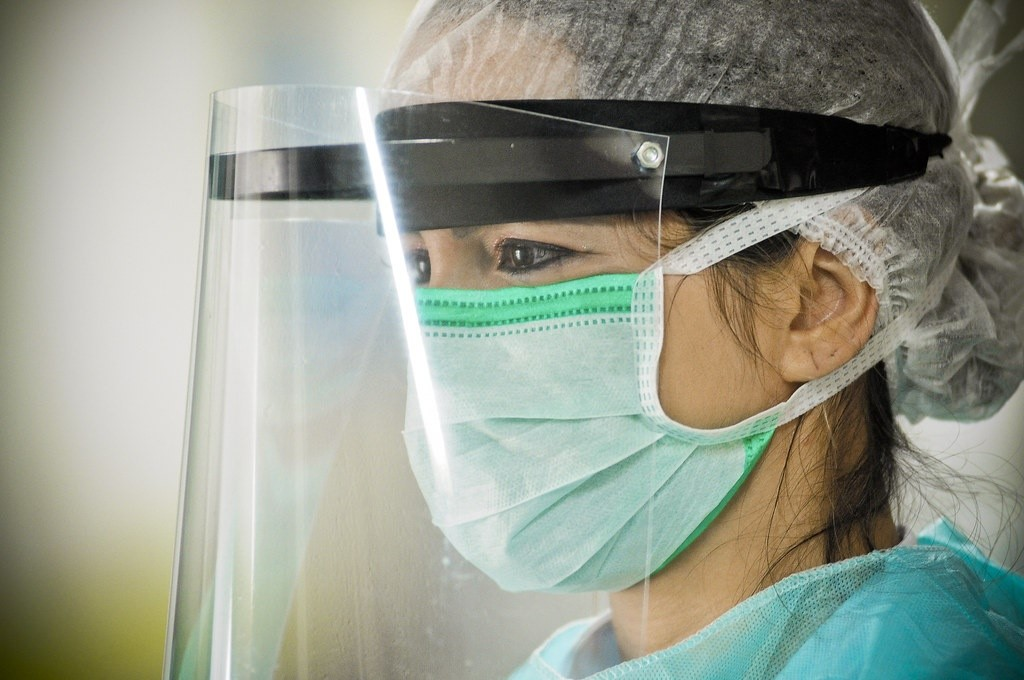face_with_mask: (363, 2, 1017, 601)
